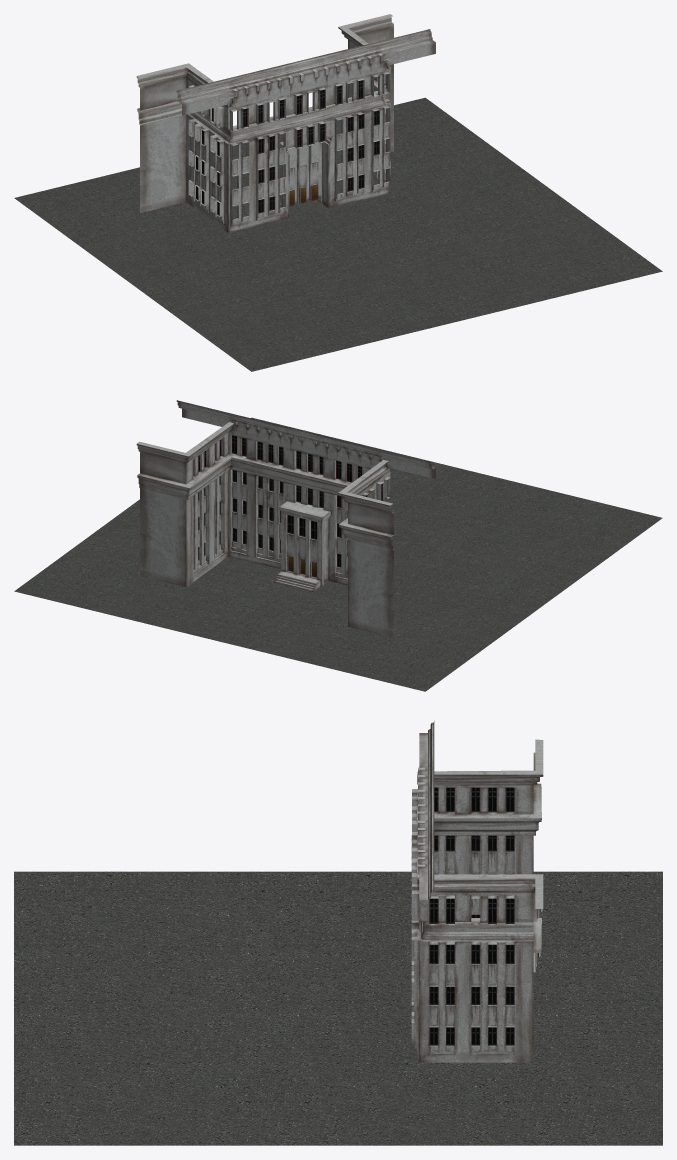
The model's file is exterior environment blockout1.glb.
3 renders of one model, top to bottom at view 1: azimuth 30°, elevation 25°; view 2: azimuth 150°, elevation 25°; view 3: azimuth 270°, elevation 25°, orthographic. The views are drawn at different scales.
Visible parts, largest first — view 1: exterior ground, building base; view 2: exterior ground, building base; view 3: exterior ground, building base.
Boxes of the visible parts, x1,y1,x2,y2 form: exterior ground: [14, 97, 662, 371]; building base: [136, 14, 435, 232]; exterior ground: [14, 417, 662, 691]; building base: [136, 400, 435, 637]; exterior ground: [14, 871, 662, 1145]; building base: [411, 721, 543, 1062].
Bounding box in the file's own units: 595 × 206 × 595.
Materials: 4 (4 with a texture image).
